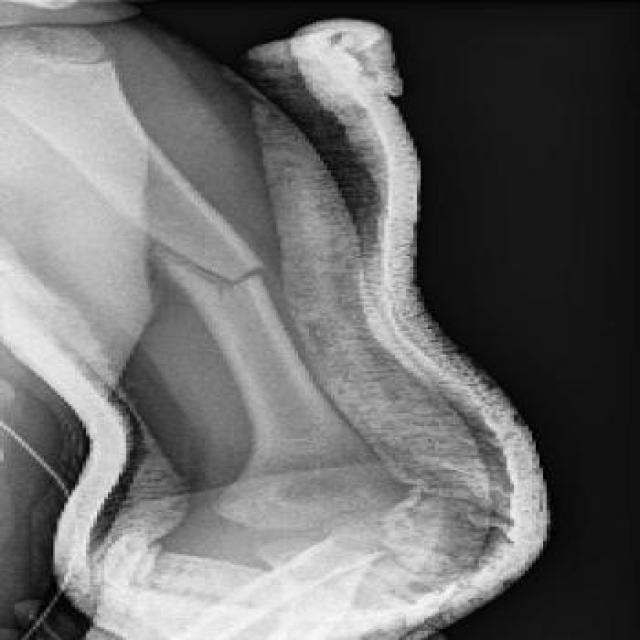fracture: (151, 244, 275, 295)
